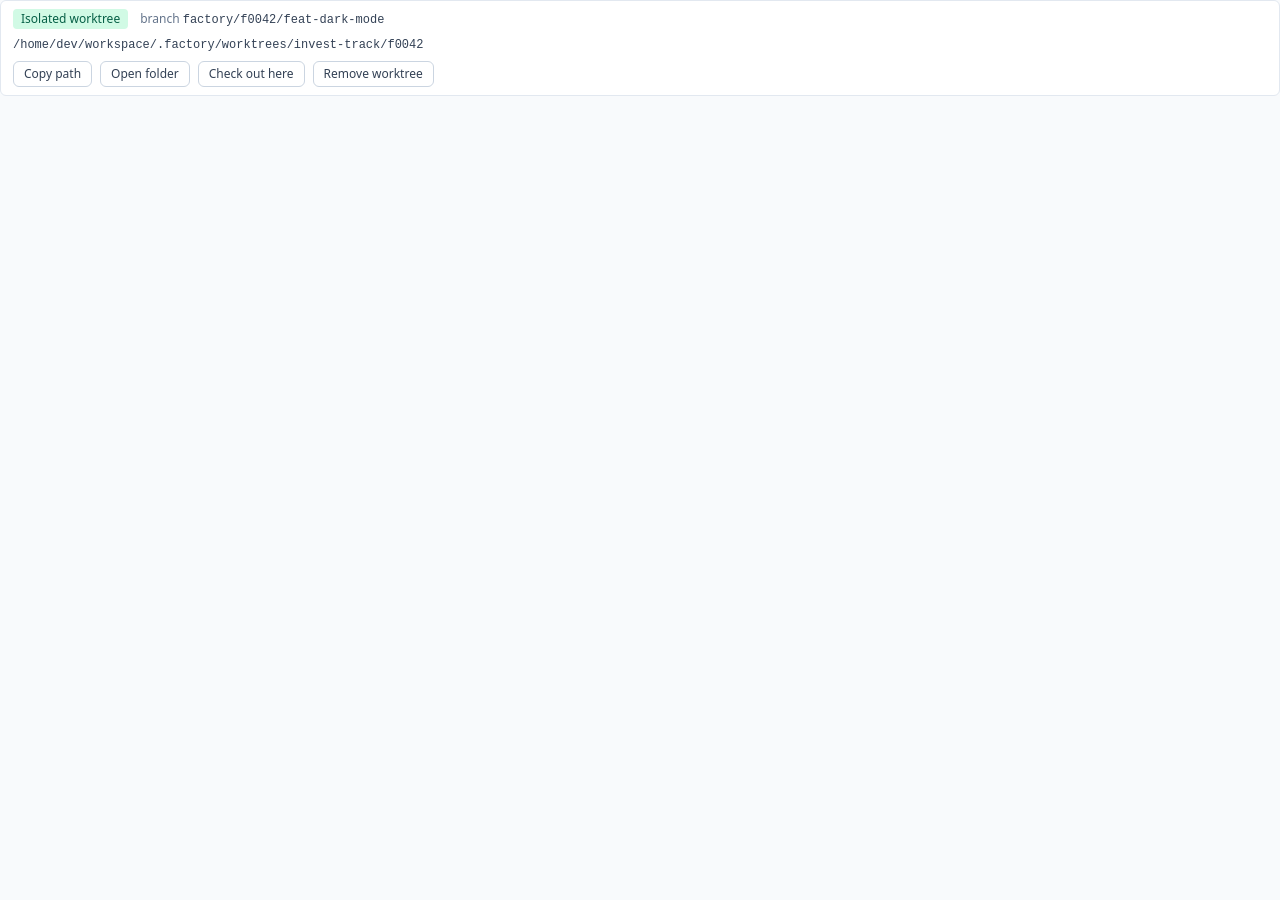
Test: "Check out here" › does not tell you to "git checkout" the branch right after it was checked out for you
Click the button "Check out here": (251, 74) [198,61,305,87]
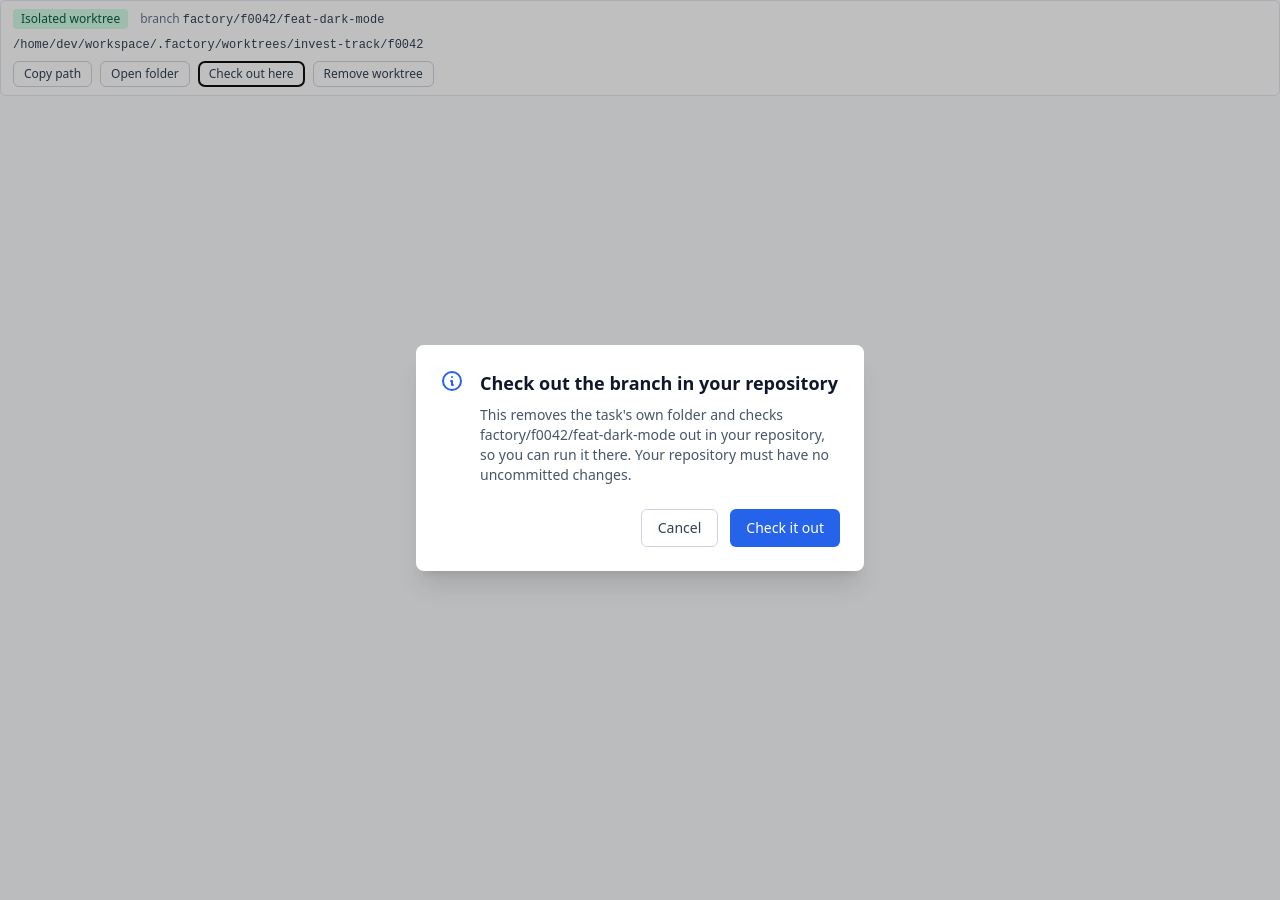
Click the button "Check it out": (785, 528) [730,509,840,547]
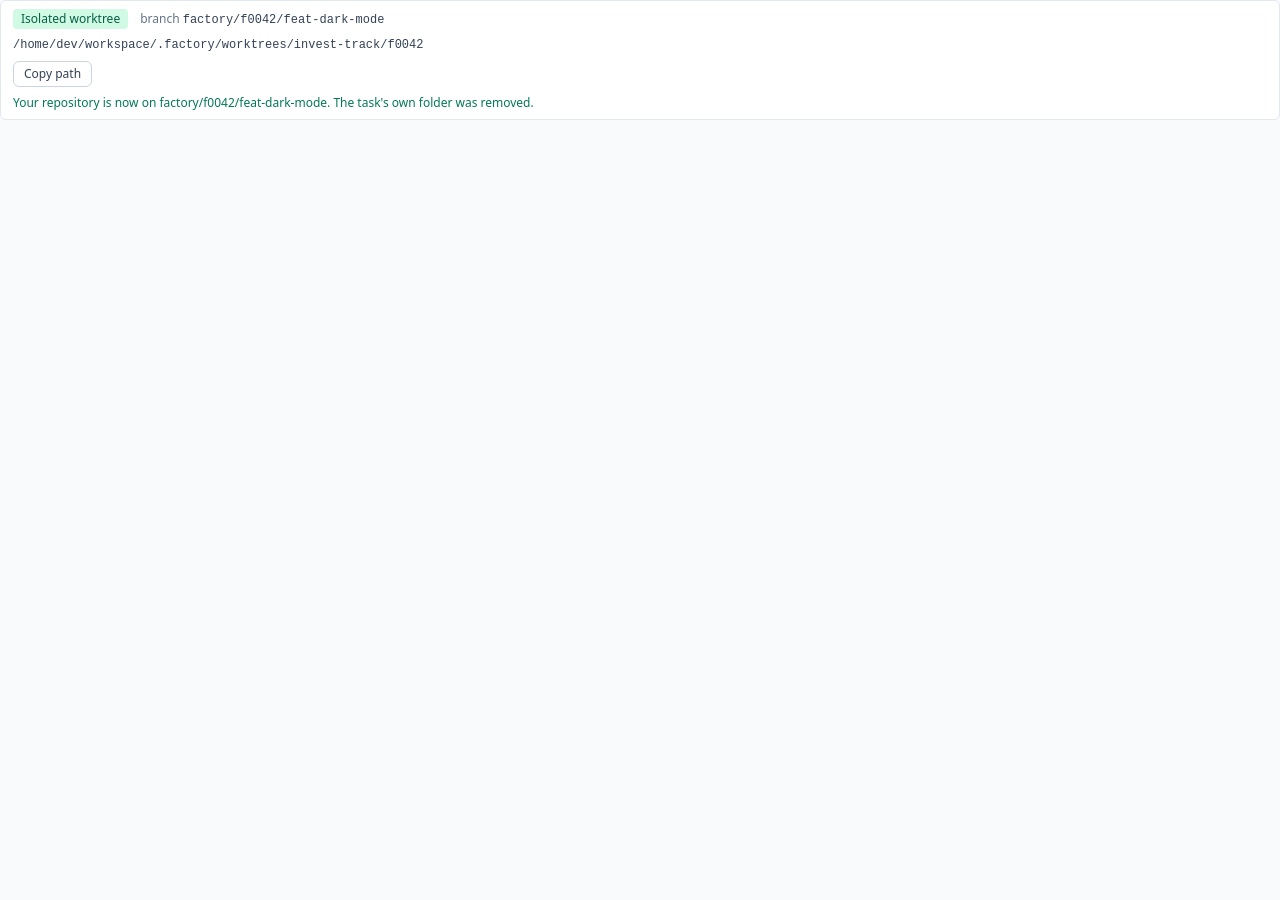
Expected: the button "Open folder" is gone
